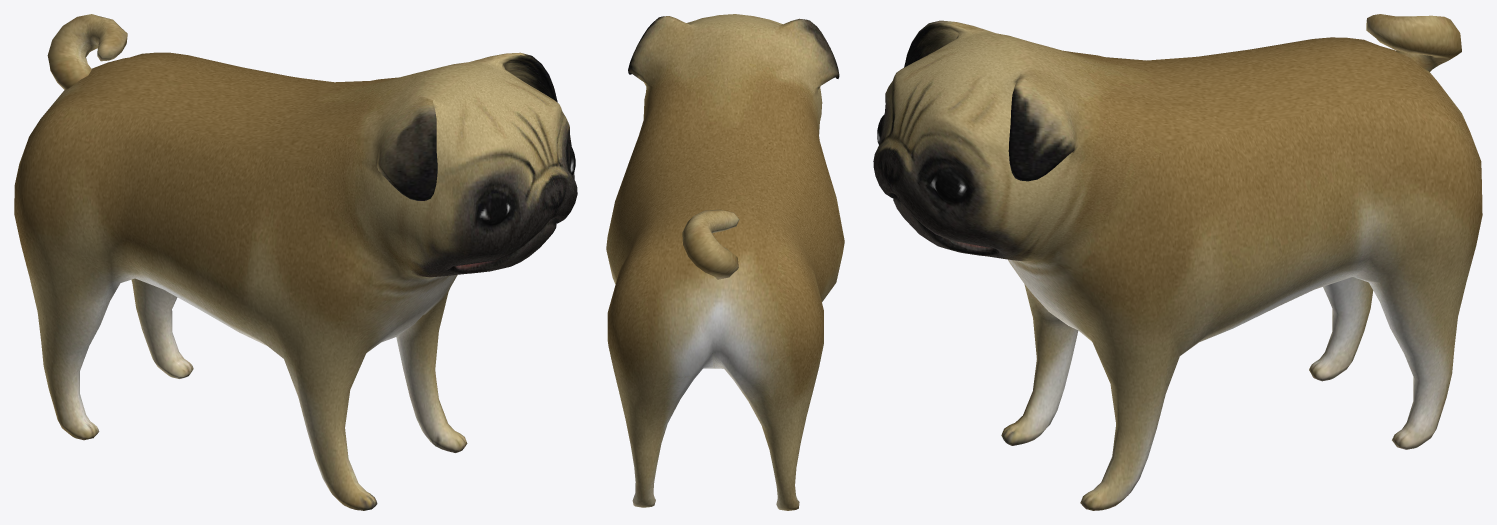
Rendered from Pug.glb.
3 views of the same model, side by side, from view 1: azimuth 30°, elevation 25°; view 2: azimuth 150°, elevation 25°; view 3: azimuth 270°, elevation 25° (orthographic). The views are drawn at different scales.
Visible parts, largest first — view 1: Cube; view 2: Cube; view 3: Cube.
Part boxes in pixels (bbox=[...]): Cube: bbox=[14, 14, 577, 510]; Cube: bbox=[606, 14, 844, 510]; Cube: bbox=[873, 14, 1482, 510].
Size of the model in its own units: 1.81 by 1.93 by 2.39.
Materials: 1 (1 with a texture image).
